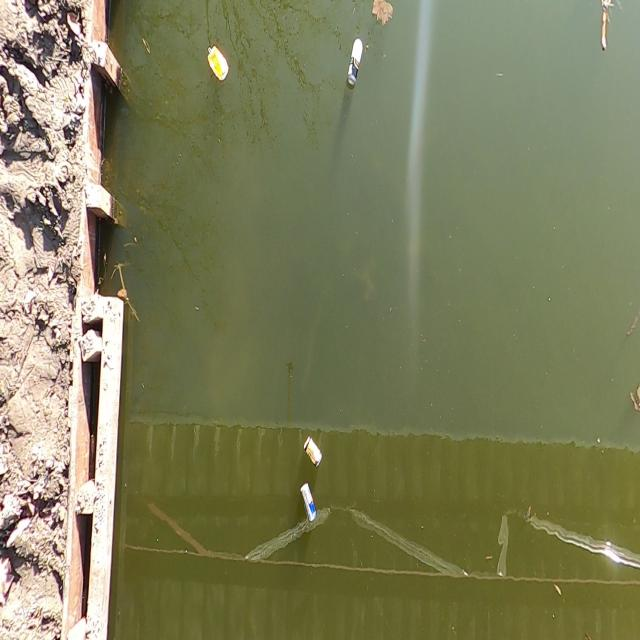Non plastique: (342, 32, 365, 94), (204, 42, 228, 84), (300, 434, 324, 474), (299, 480, 318, 526)
